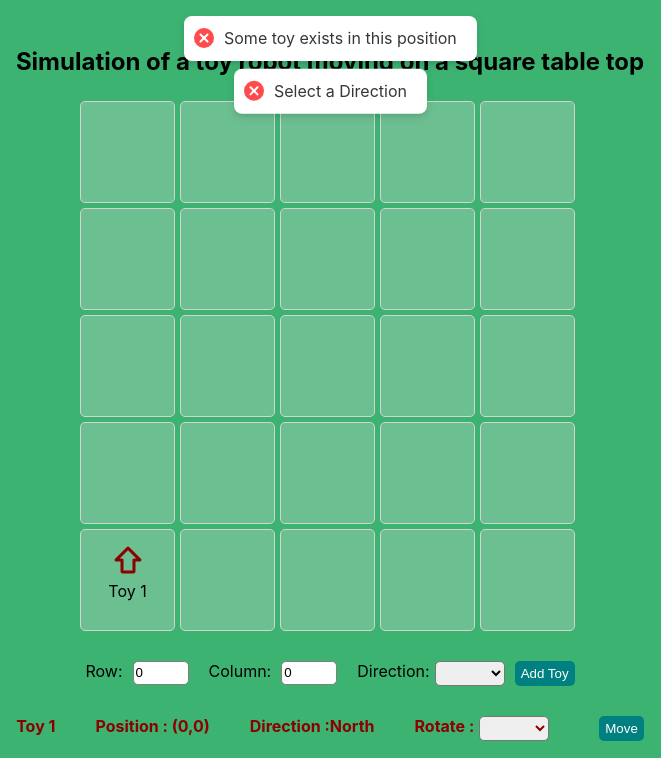
Test: Simulation of toy over square table top › renders toy rotation correctly
Select "Right" in the dropdown with test id "select-rotate". click: [514, 728]
box: [479,716,549,741]
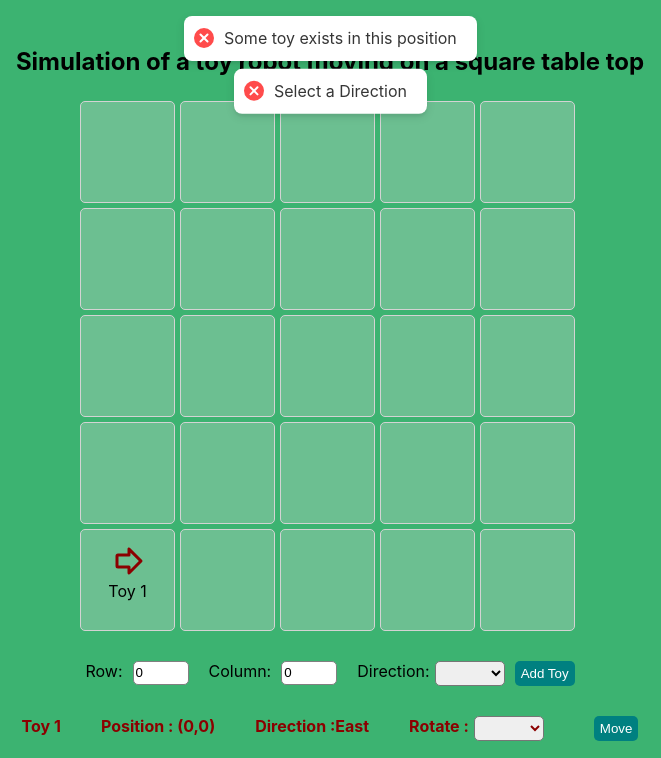
expect the element with test id "tile-toy1-00-east" is shown: met, box [108,545,147,601]
